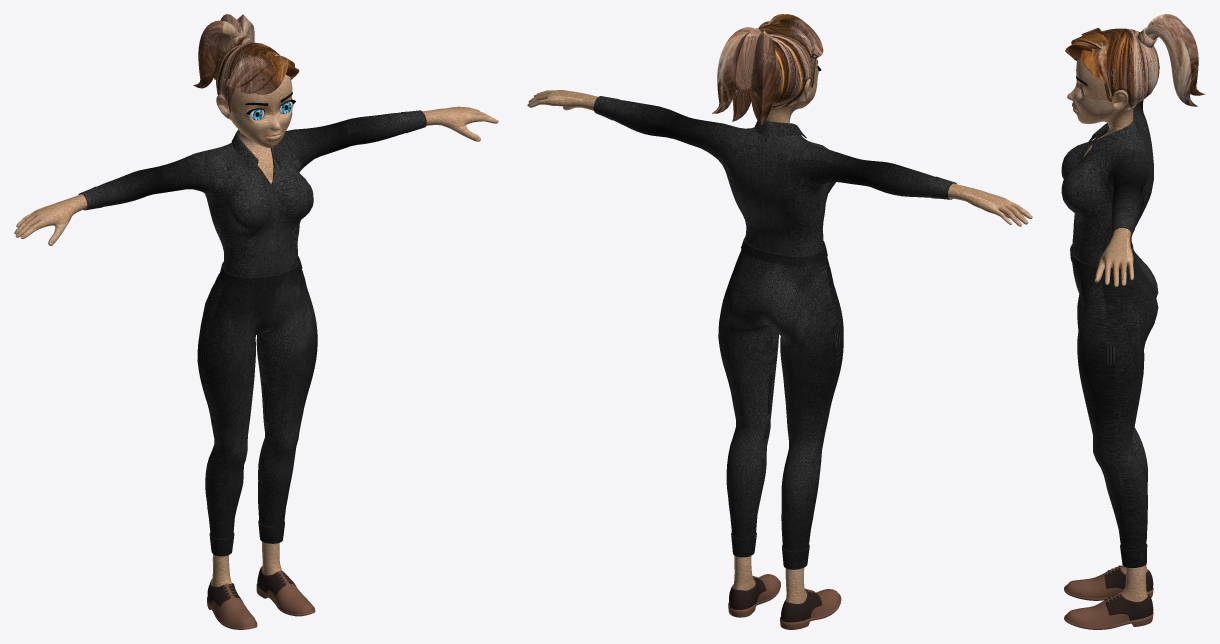
Rendered from mujer1.obj.
3 renders of one model, left to right at view 1: azimuth 30°, elevation 25°; view 2: azimuth 150°, elevation 25°; view 3: azimuth 270°, elevation 25°, orthographic. The views are drawn at different scales.
Visible parts, largest first — view 1: D_3_mesh_001, D_1_mesh_002, Body_Vucud_003, Hair_Vucud_001, Shoes_shoe_dress_v2_003; view 2: D_3_mesh_001, D_1_mesh_002, Hair_Vucud_001, Body_Vucud_003, Shoes_shoe_dress_v2_003; view 3: D_3_mesh_001, D_1_mesh_002, Hair_Vucud_001, Body_Vucud_003, Shoes_shoe_dress_v2_003.
Part boxes in pixels (<box>): D_3_mesh_001: <box>197,256,317,556</box>; D_1_mesh_002: <box>78,110,426,277</box>; Body_Vucud_003: <box>14,75,498,586</box>; Hair_Vucud_001: <box>193,14,299,111</box>; Shoes_shoe_dress_v2_003: <box>207,566,315,629</box>; D_3_mesh_001: <box>718,236,843,569</box>; D_1_mesh_002: <box>593,96,956,256</box>; Hair_Vucud_001: <box>712,14,823,125</box>; Body_Vucud_003: <box>527,58,1032,603</box>; Shoes_shoe_dress_v2_003: <box>728,574,841,629</box>; D_3_mesh_001: <box>1070,242,1158,567</box>; D_1_mesh_002: <box>1061,100,1153,266</box>; Hair_Vucud_001: <box>1065,14,1205,109</box>; Body_Vucud_003: <box>1067,58,1147,601</box>; Shoes_shoe_dress_v2_003: <box>1064,565,1153,629</box>.
Size of the model in its own units: 6.55 by 7.51 by 1.66.
6 materials, 5 textured.
